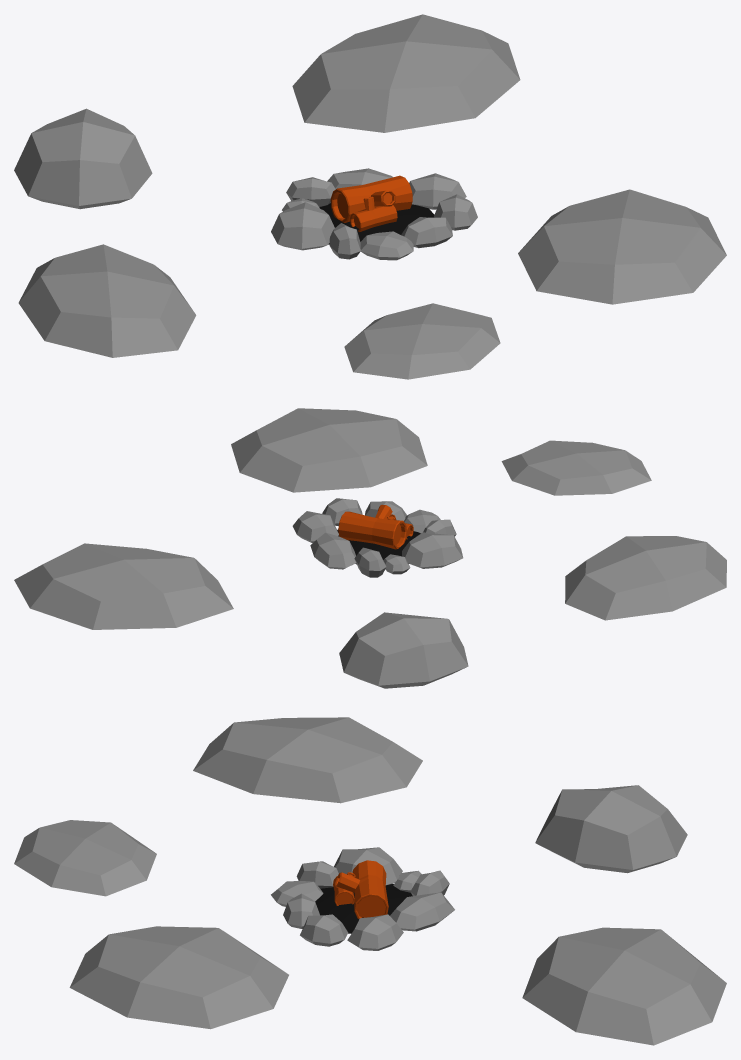
File: firepit.fbx
The picture shows the model from 3 angles, top to bottom: view 1: azimuth 30°, elevation 25°; view 2: azimuth 150°, elevation 25°; view 3: azimuth 270°, elevation 25°; orthographic projection. The views are drawn at different scales.
Visible parts, largest first — view 1: polySurface11, polySurface12, polySurface14, polySurface10, polySurface13, polySurface8, Log1, polySurface2, polySurface6, polySurface1, Sphere, polySurface9 (+4 smaller); view 2: polySurface11, polySurface12, polySurface14, polySurface10, polySurface13, Log1, polySurface8, polySurface4, polySurface2, polySurface7, polySurface9, Sphere (+1 smaller); view 3: polySurface11, polySurface12, polySurface14, polySurface10, polySurface13, Log1, polySurface4, polySurface2, Sphere, polySurface8, polySurface9, polySurface1 (+3 smaller).
Part boxes in pixels (bbox=[...]): polySurface11: bbox=[292, 14, 520, 132]; polySurface12: bbox=[518, 189, 726, 304]; polySurface14: bbox=[18, 244, 196, 357]; polySurface10: bbox=[14, 108, 152, 209]; polySurface13: bbox=[344, 303, 500, 379]; polySurface8: bbox=[271, 202, 334, 250]; Log1: bbox=[330, 175, 412, 222]; polySurface2: bbox=[409, 173, 466, 209]; polySurface6: bbox=[360, 231, 413, 260]; polySurface1: bbox=[401, 217, 452, 248]; Sphere: bbox=[319, 203, 434, 244]; polySurface9: bbox=[434, 194, 477, 230]; polySurface11: bbox=[14, 543, 233, 629]; polySurface12: bbox=[231, 408, 427, 492]; polySurface14: bbox=[565, 536, 726, 620]; polySurface10: bbox=[339, 612, 468, 688]; polySurface13: bbox=[501, 440, 651, 495]; Log1: bbox=[338, 504, 406, 549]; polySurface8: bbox=[402, 532, 463, 568]; polySurface4: bbox=[310, 532, 355, 569]; polySurface2: bbox=[292, 511, 338, 543]; polySurface7: bbox=[354, 547, 386, 577]; polySurface9: bbox=[322, 498, 362, 525]; Sphere: bbox=[337, 529, 420, 564]; polySurface11: bbox=[522, 927, 726, 1045]; polySurface12: bbox=[69, 926, 288, 1029]; polySurface14: bbox=[193, 717, 422, 803]; polySurface10: bbox=[535, 785, 687, 873]; polySurface13: bbox=[14, 820, 156, 896]; Log1: bbox=[335, 860, 388, 918]; polySurface4: bbox=[390, 892, 454, 931]; polySurface2: bbox=[347, 914, 403, 950]; Sphere: bbox=[315, 884, 412, 933]; polySurface8: bbox=[334, 847, 402, 885]; polySurface9: bbox=[300, 914, 348, 946]; polySurface1: bbox=[283, 893, 319, 928].
Size of the model in its own units: 536 by 47.82 by 521.
